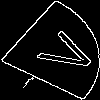V: (25, 25, 100, 78)
